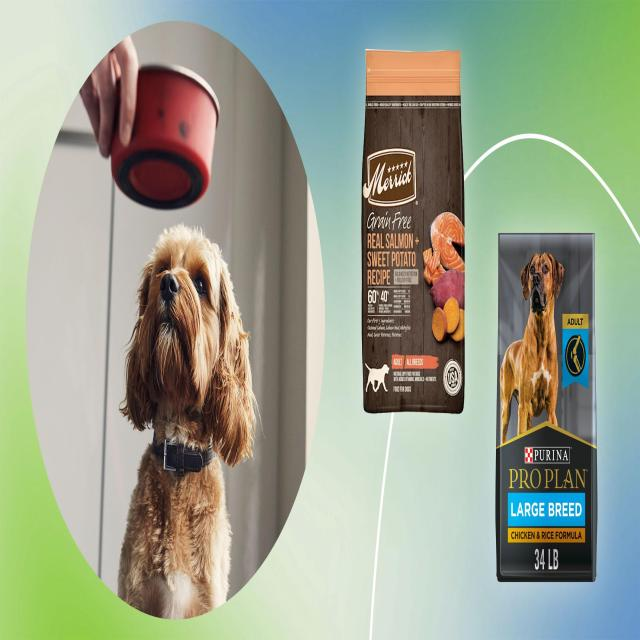Dog: (120, 219, 260, 482)
